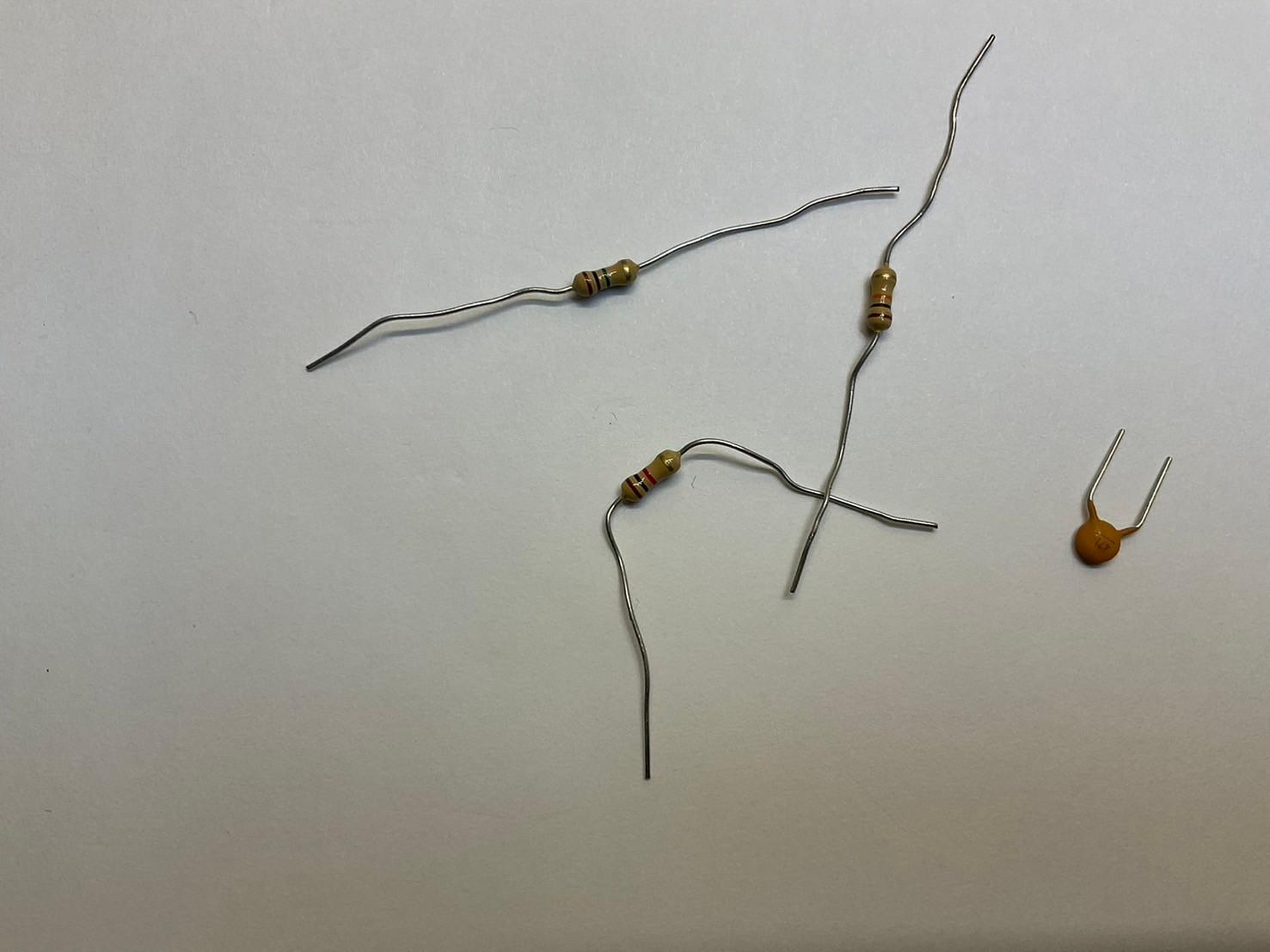resistor: (620, 450, 686, 503), (573, 259, 640, 300), (863, 264, 898, 337)
